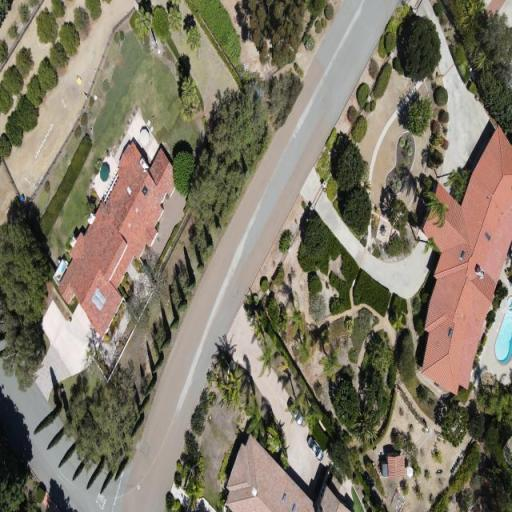solar-panel: (91, 288, 106, 311)
